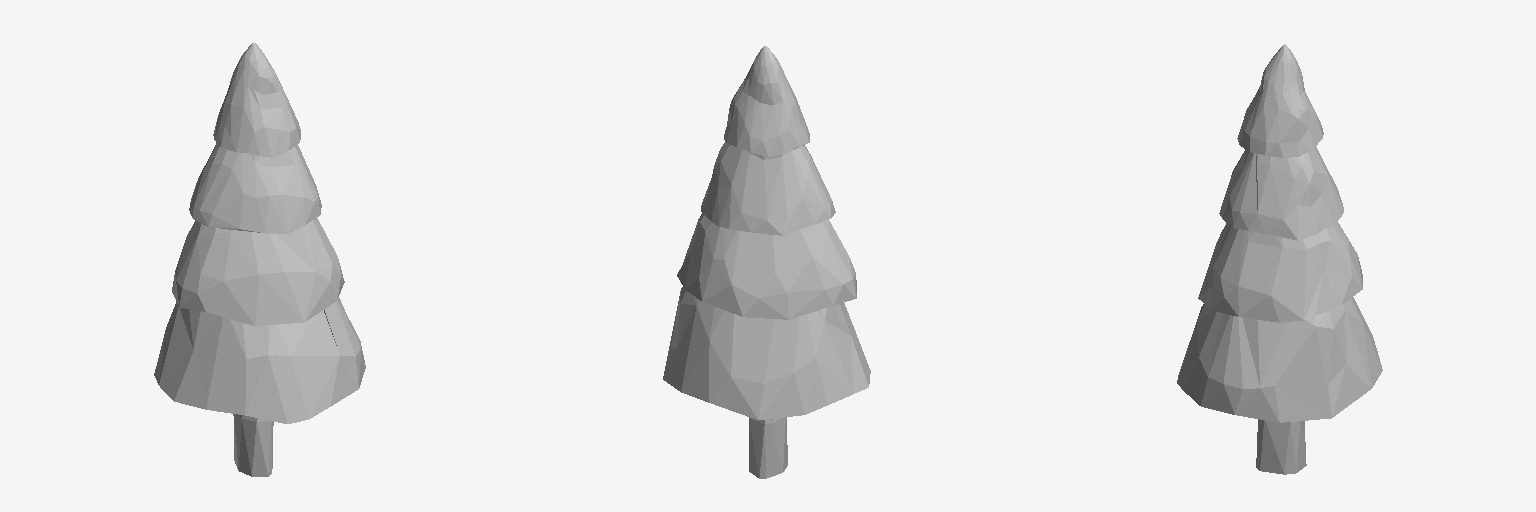
Rendered from Pine2.obj.
3 views of the same model, side by side, from view 1: azimuth 30°, elevation 25°; view 2: azimuth 150°, elevation 25°; view 3: azimuth 270°, elevation 25° (orthographic).
Parts seen in each view (by area): view 1: Cube.003_Cube.005; view 2: Cube.003_Cube.005; view 3: Cube.003_Cube.005.
Part boxes in pixels (x1,y1,x2,y2): Cube.003_Cube.005: (154,43,365,476); Cube.003_Cube.005: (663,46,870,478); Cube.003_Cube.005: (1177,44,1382,474).
Size of the model in its own units: 7.28 by 16.11 by 7.09.